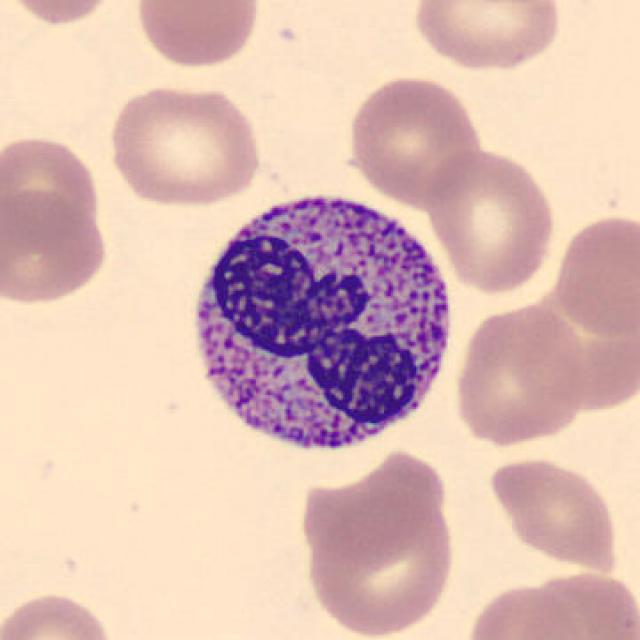Neutrophil: (176, 175, 462, 472)
RBC: (298, 490, 458, 638), (103, 78, 265, 210), (423, 143, 560, 296), (450, 300, 588, 450), (343, 70, 485, 206), (484, 453, 622, 573), (517, 279, 640, 412), (0, 188, 112, 308), (0, 130, 105, 250), (407, 0, 565, 74), (550, 208, 638, 340), (131, 0, 265, 71), (517, 567, 639, 640), (461, 580, 588, 640), (0, 589, 117, 640), (2, 0, 124, 28)
